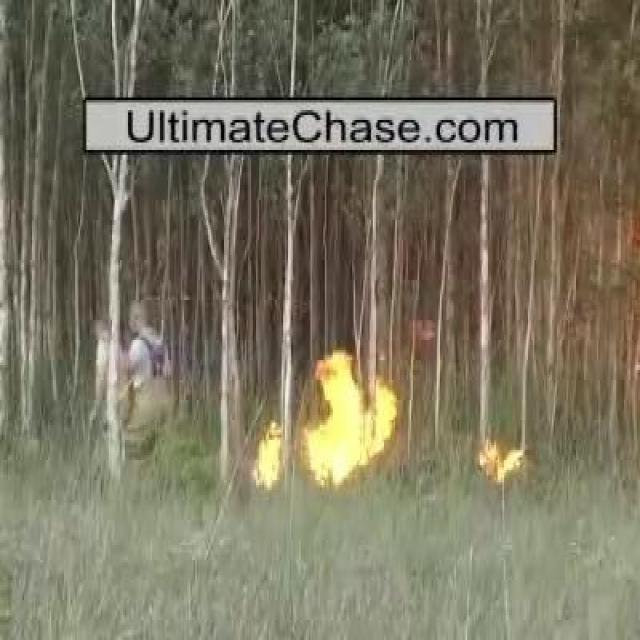Fire: (253, 354, 394, 488), (480, 440, 525, 480)
